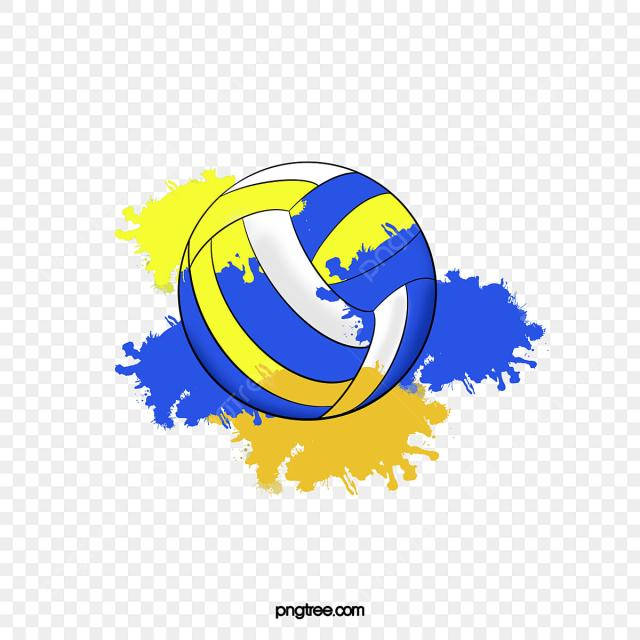Volleyball: (174, 157, 438, 423)
